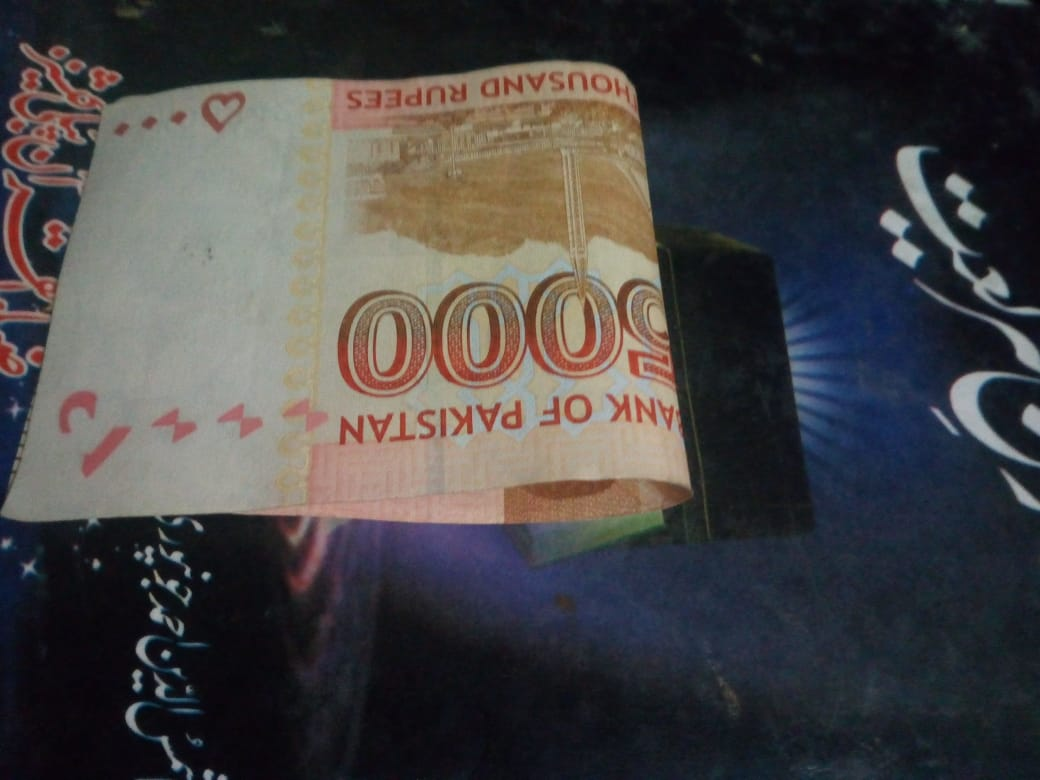5000 rupee: (35, 56, 714, 563)
